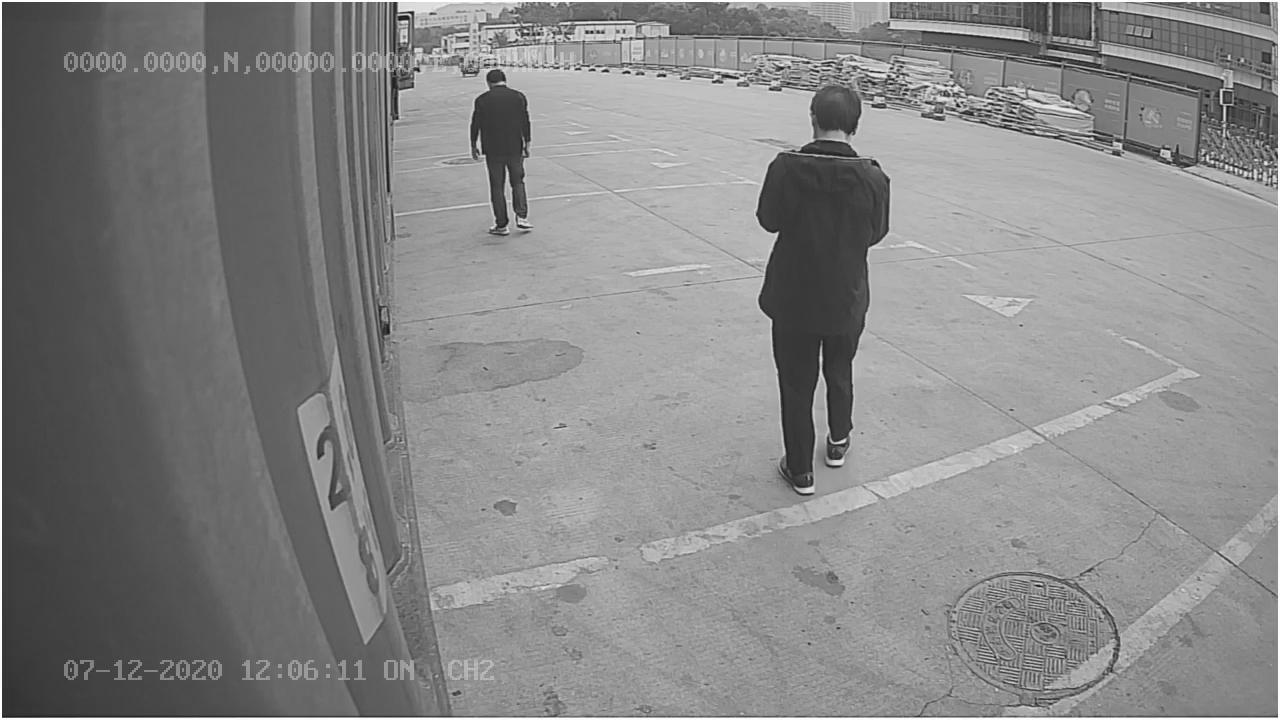person: (753, 79, 896, 496)
